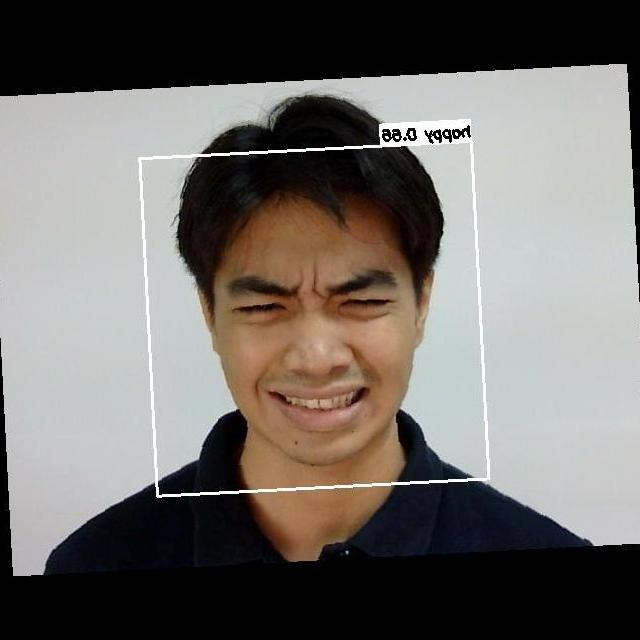Disgust: (204, 235, 439, 442)
